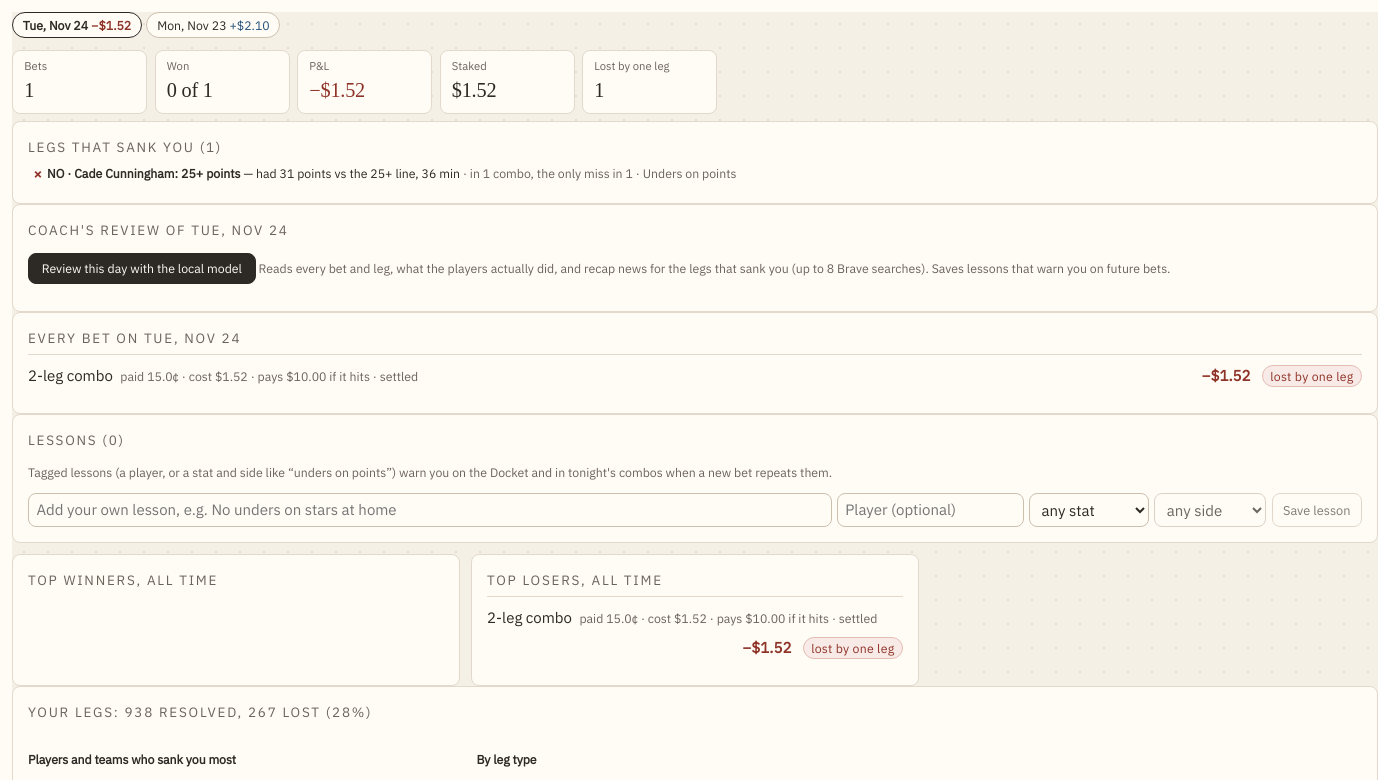
Scenario: <DailyReview> › saves your own tagged lesson
This screenshot has width=1378, height=780.
Type "No unders on Cade" into the field named "New lesson". click: point(430, 510)
box: [28,493,832,527]
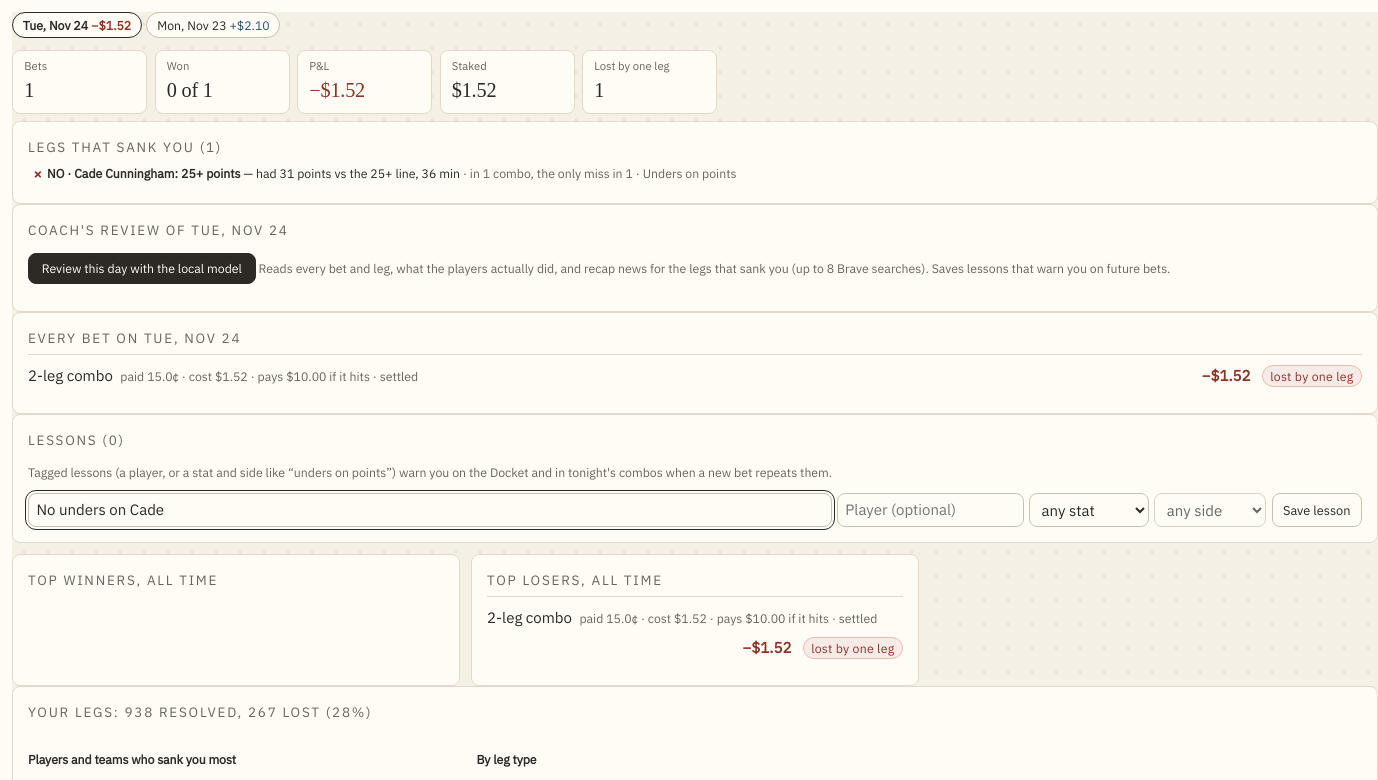
Type "Cade Cunningham" into the field labelled "Player (optional)". click: point(930, 510)
box: [837,493,1024,527]
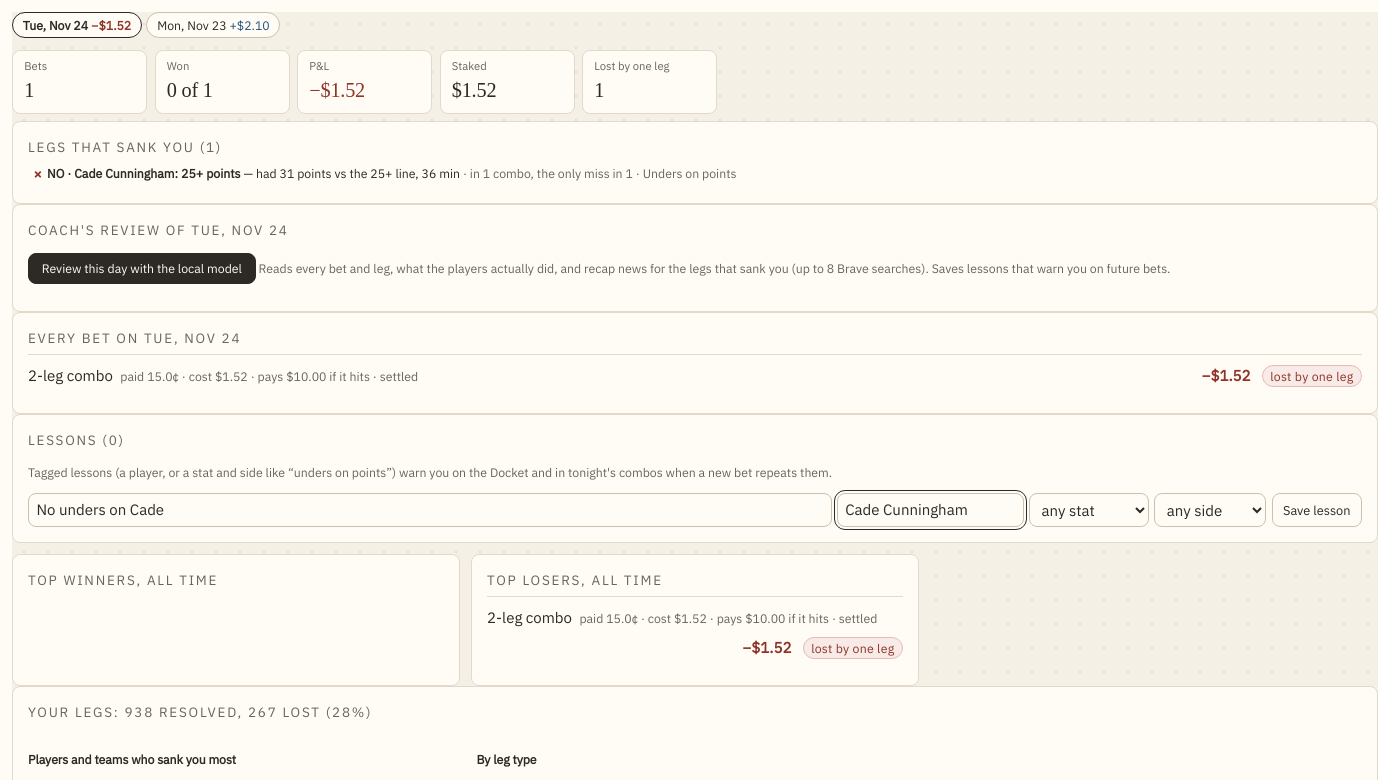
Select "PTS" in the dropdown named "Stat". click: point(1089, 510)
box: [1029,493,1149,527]
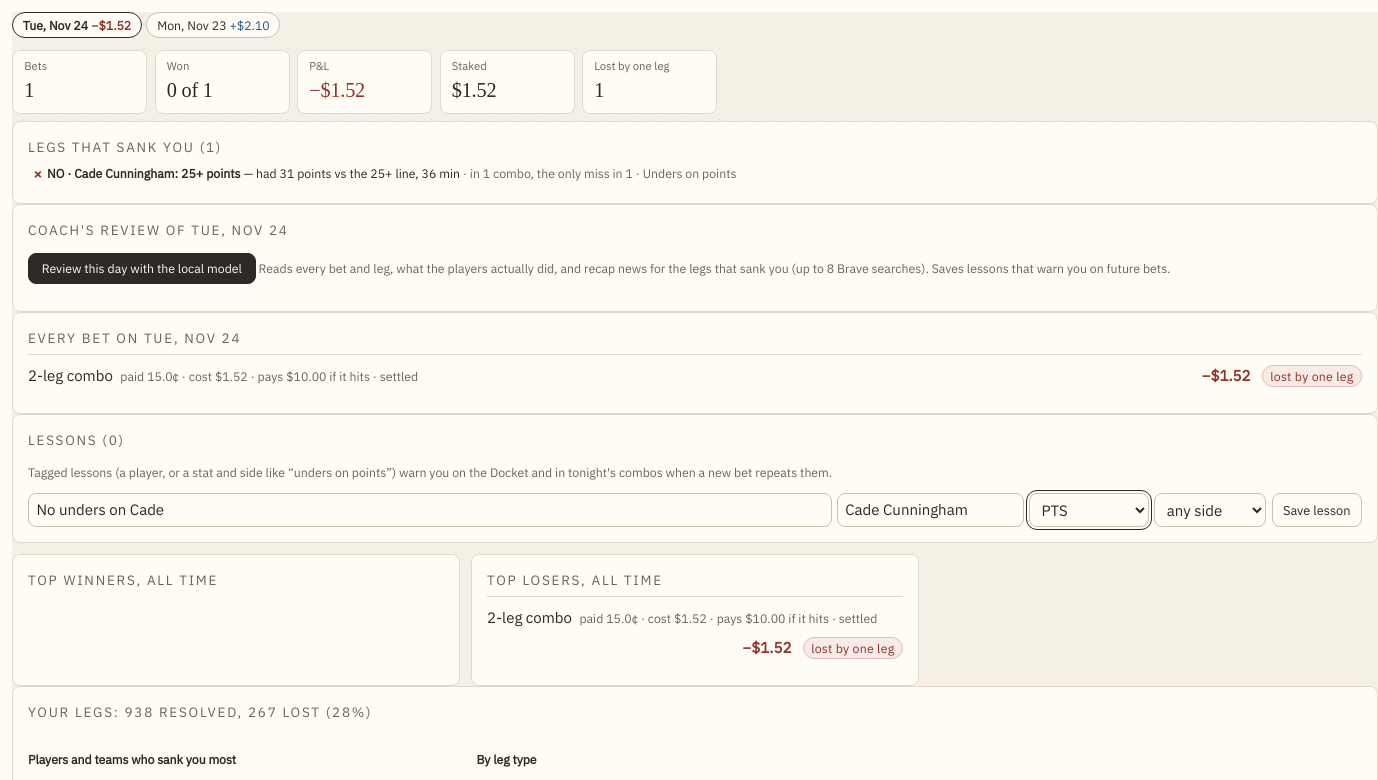
Select "under (NO)" in the dropdown named "Side". click: point(1210, 510)
box: [1154,493,1266,527]
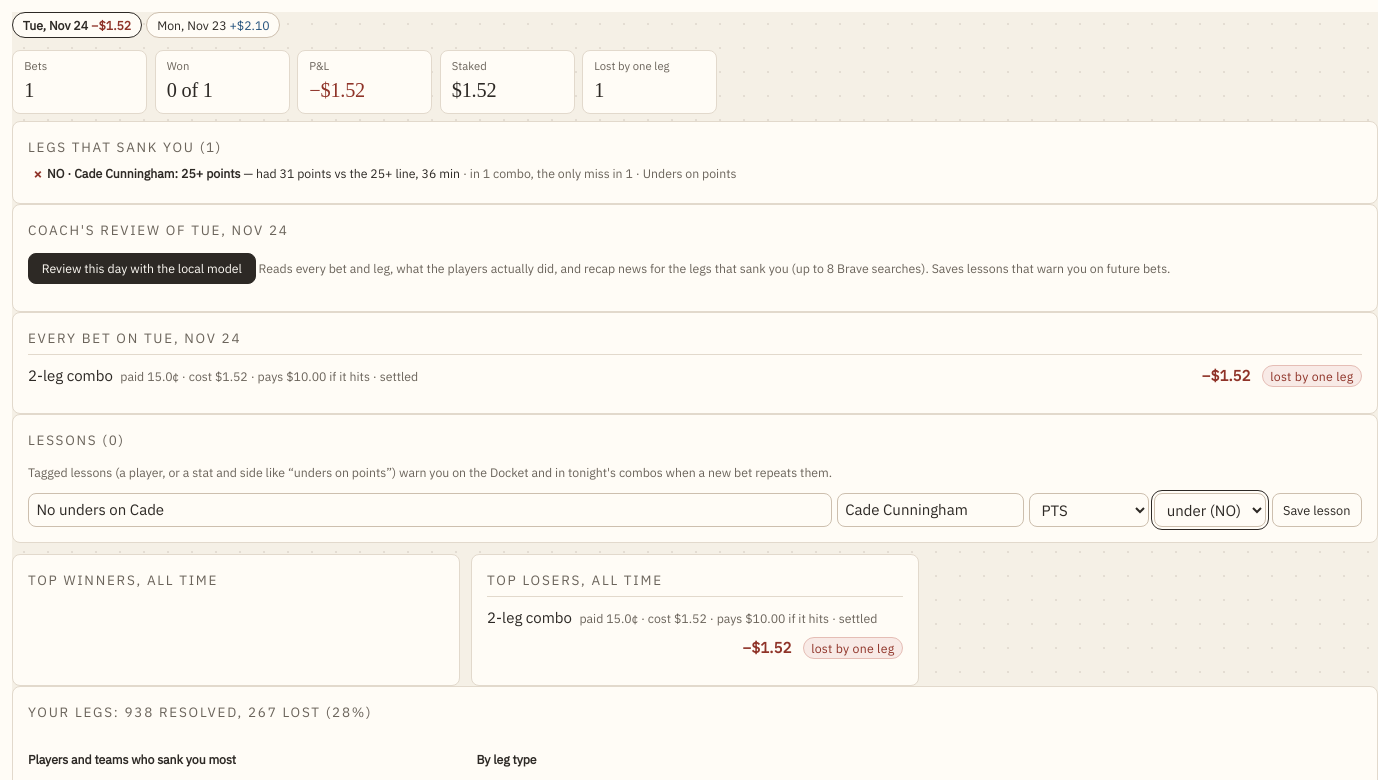
Click the button "Save lesson". click: point(1317, 510)
box: [1272,493,1362,527]
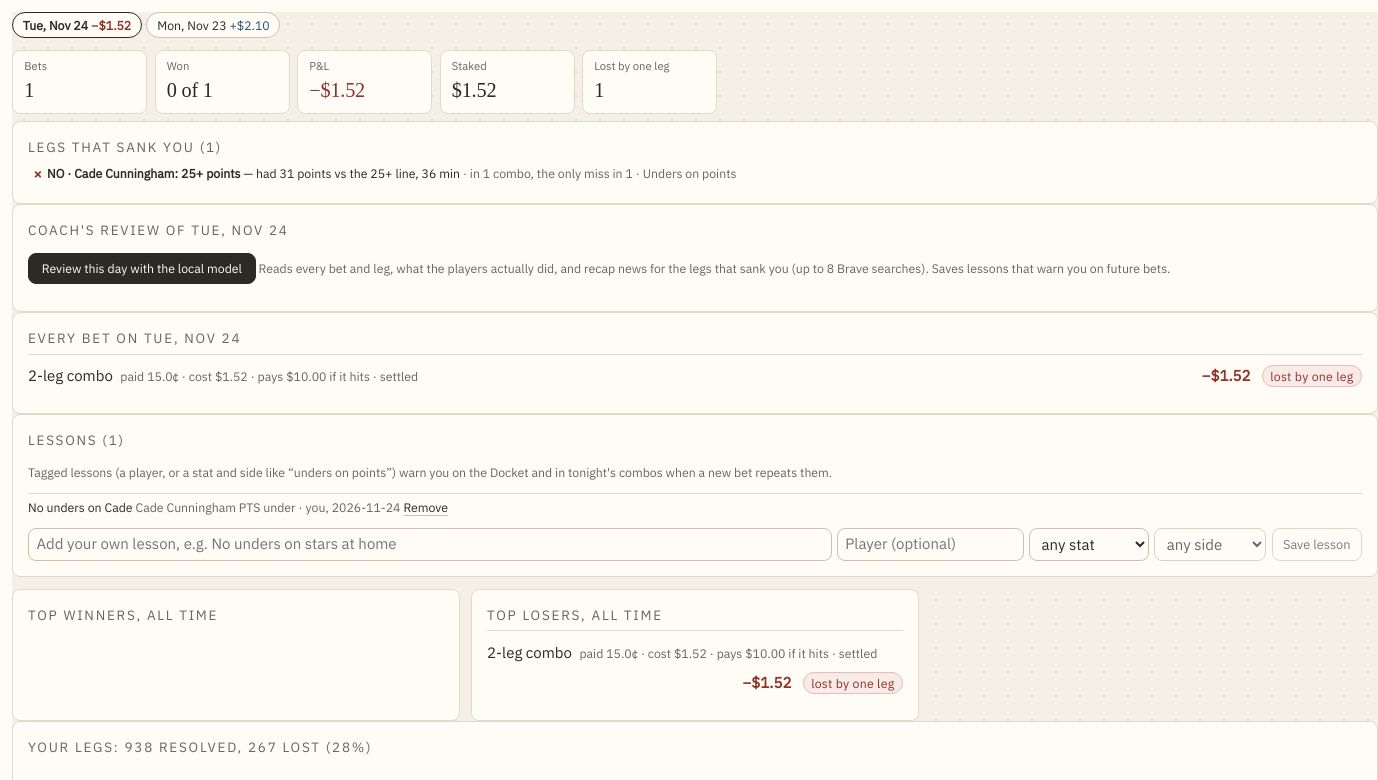
expect the button with aria-label "Remove lesson: No unders on Cade" is shown: met, box [403,498,448,516]
